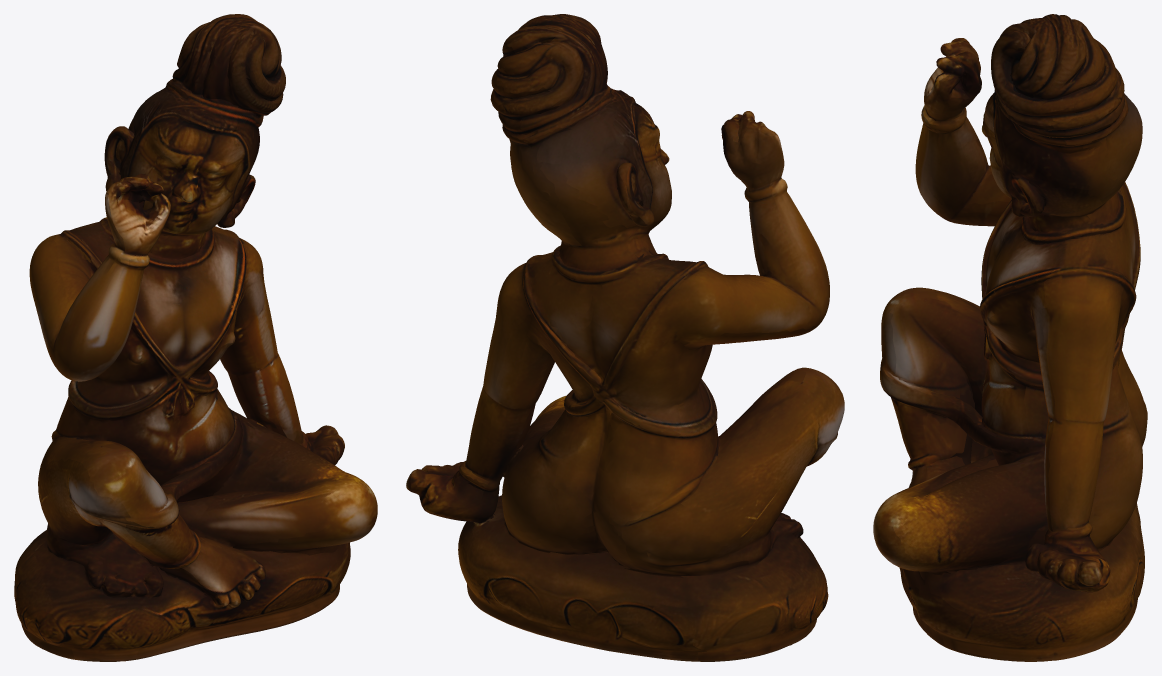
3 views of the same model, side by side, from view 1: azimuth 30°, elevation 25°; view 2: azimuth 150°, elevation 25°; view 3: azimuth 270°, elevation 25° (orthographic). The views are drawn at different scales.
Visible parts, largest first — view 1: textured_mesh; view 2: textured_mesh; view 3: textured_mesh.
Boxes of the visible parts, left/top/right/bottom form: textured_mesh: left=14, top=14, right=377, bottom=661; textured_mesh: left=406, top=14, right=844, bottom=661; textured_mesh: left=873, top=14, right=1147, bottom=661.
Bounding box in the file's own units: 1.32 × 1.99 × 0.8252.
Materials: 1 (1 with a texture image).
